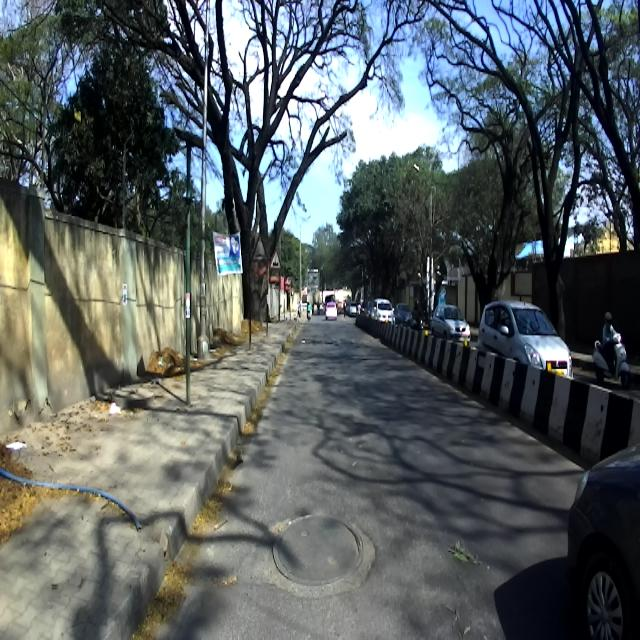electric pole ahead at: (166, 113, 207, 409)
tree ahead at: (218, 121, 331, 322)
